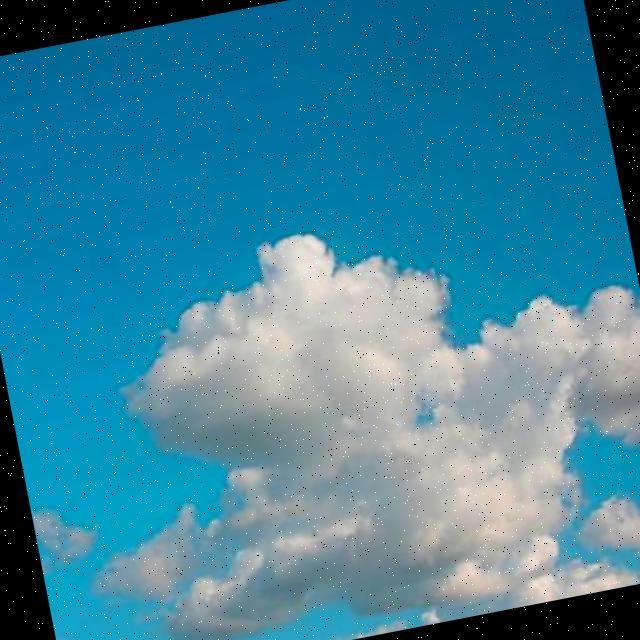Ac: (1, 85, 640, 640)
